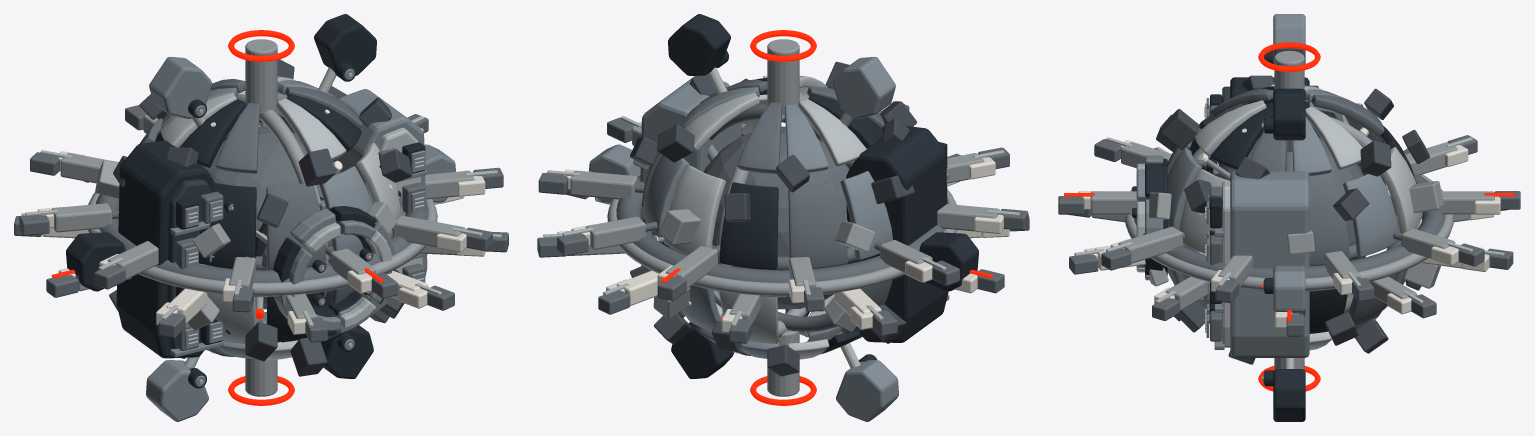
Rendered from orbit-deploy-ultra.glb.
3 views of the same model, side by side, from view 1: azimuth 30°, elevation 25°; view 2: azimuth 150°, elevation 25°; view 3: azimuth 270°, elevation 25° (orthographic). The views are drawn at different scales.
Parts seen in each view (by area): view 1: Deploy_RackCliff_WEST, Deploy_ContainerBus, Deploy_CloudCore, Deploy_Cloud_ArmourTile_01_01, Deploy_EquatorialDock, Deploy_LaunchPylon_02, Deploy_LaunchPylon_01, Deploy_LaunchPylon_04, Deploy_RackCliff_EAST, Deploy_Cloud_ArmourTile_01_02, Deploy_Cloud_ArmourTile_00_01, Deploy_PolarUplink_1 (+58 smaller); view 2: Deploy_RackCliff_WEST, Deploy_Cloud_ArmourTile_01_10, Deploy_CloudCore, Deploy_Cloud_ArmourTile_01_09, Deploy_EquatorialDock, Deploy_ContainerBus, Deploy_RackCliff_EAST, Deploy_LaunchPylon_02, Deploy_LaunchPylon_01, Deploy_LaunchPylon_04, Deploy_Cloud_ArmourTile_01_08, Deploy_Cloud_ArmourTile_01_11 (+58 smaller); view 3: Deploy_RackCliff_EAST, Deploy_Cloud_ArmourTile_01_07, Deploy_ContainerBus, Deploy_EquatorialDock, Deploy_Cloud_ArmourTile_01_06, Deploy_LaunchPylon_05, Deploy_LaunchPylon_01, Deploy_Cloud_ArmourTile_01_08, Deploy_Cloud_ArmourTile_00_07, Deploy_Cloud_ArmourTile_00_04, Deploy_LaunchPylon_00, Deploy_Cloud_ArmourTile_01_03 (+49 smaller).
Boxes of the visible parts, x1=… form: Deploy_RackCliff_WEST: x1=116, y1=140, x2=214, y2=358; Deploy_ContainerBus: x1=88, y1=192, x2=437, y2=296; Deploy_CloudCore: x1=201, y1=126, x2=341, y2=309; Deploy_Cloud_ArmourTile_01_01: x1=199, y1=182, x2=256, y2=268; Deploy_EquatorialDock: x1=96, y1=194, x2=428, y2=297; Deploy_LaunchPylon_02: x1=149, y1=57, x2=211, y2=118; Deploy_LaunchPylon_01: x1=314, y1=14, x2=376, y2=75; Deploy_LaunchPylon_04: x1=146, y1=360, x2=208, y2=421; Deploy_RackCliff_EAST: x1=333, y1=89, x2=427, y2=276; Deploy_Cloud_ArmourTile_01_02: x1=266, y1=183, x2=326, y2=269; Deploy_Cloud_ArmourTile_00_01: x1=215, y1=102, x2=260, y2=173; Deploy_PolarUplink_1: x1=245, y1=39, x2=277, y2=114; Deploy_RackCliff_WEST: x1=846, y1=126, x2=948, y2=342; Deploy_Cloud_ArmourTile_01_10: x1=788, y1=182, x2=847, y2=268; Deploy_CloudCore: x1=703, y1=126, x2=848, y2=309; Deploy_Cloud_ArmourTile_01_09: x1=719, y1=182, x2=778, y2=269; Deploy_EquatorialDock: x1=616, y1=175, x2=948, y2=297; Deploy_ContainerBus: x1=607, y1=189, x2=956, y2=296; Deploy_RackCliff_EAST: x1=640, y1=76, x2=741, y2=265; Deploy_LaunchPylon_02: x1=833, y1=57, x2=895, y2=118; Deploy_LaunchPylon_01: x1=668, y1=14, x2=730, y2=75; Deploy_LaunchPylon_04: x1=836, y1=360, x2=898, y2=421; Deploy_Cloud_ArmourTile_01_08: x1=664, y1=165, x2=725, y2=254; Deploy_Cloud_ArmourTile_01_11: x1=840, y1=171, x2=892, y2=259; Deploy_RackCliff_EAST: x1=1230, y1=171, x2=1309, y2=357; Deploy_Cloud_ArmourTile_01_07: x1=1343, y1=173, x2=1399, y2=257; Deploy_ContainerBus: x1=1124, y1=174, x2=1454, y2=290; Deploy_EquatorialDock: x1=1134, y1=168, x2=1445, y2=291; Deploy_Cloud_ArmourTile_01_06: x1=1309, y1=184, x2=1349, y2=265; Deploy_LaunchPylon_05: x1=1273, y1=369, x2=1305, y2=421; Deploy_LaunchPylon_01: x1=1273, y1=88, x2=1305, y2=140; Deploy_Cloud_ArmourTile_01_08: x1=1381, y1=147, x2=1422, y2=233; Deploy_Cloud_ArmourTile_00_07: x1=1305, y1=106, x2=1362, y2=170; Deploy_Cloud_ArmourTile_00_04: x1=1211, y1=107, x2=1273, y2=169; Deploy_LaunchPylon_00: x1=1273, y1=266, x2=1305, y2=316; Deploy_Cloud_ArmourTile_01_03: x1=1167, y1=148, x2=1201, y2=230.
Bounding box in the file's own units: 12.72 × 10.02 × 12.72.
